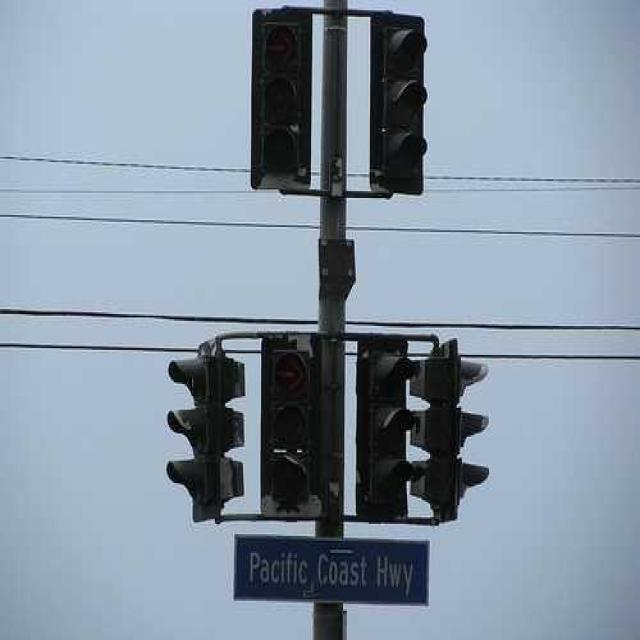Traffic Light -Off-: (350, 324, 420, 522), (363, 5, 432, 190), (260, 332, 326, 521), (250, 4, 312, 191)
